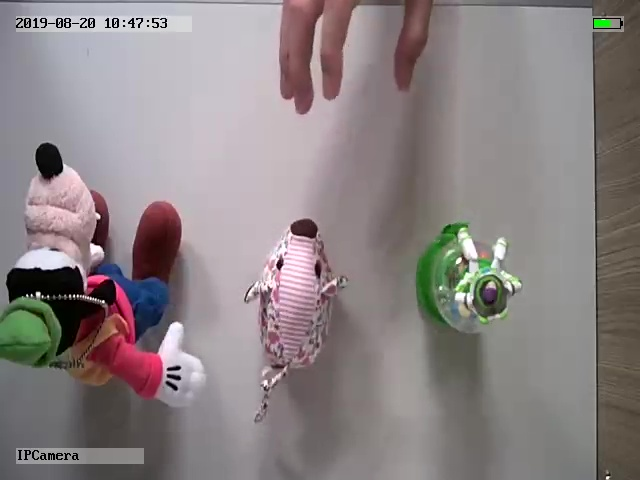buzz: (412, 219, 524, 336)
goofy: (1, 139, 208, 413)
pig: (242, 216, 351, 424)
